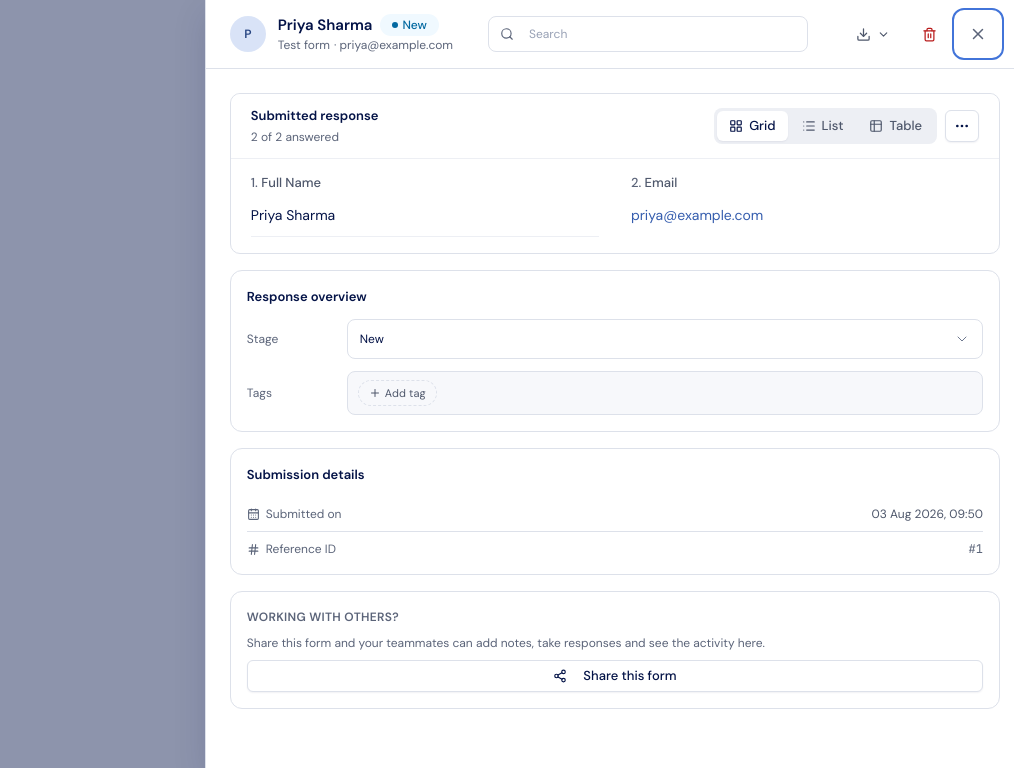
Test: ResponseDrawer layouts, full-screen page and keyboard › the options are behind a three-dot button that opens a popover
The image size is (1024, 768).
Check: the heading "Submitted response" is shown, box [251,106,378,126]
Click the button named "View options".
click(962, 126)  # box [945,110,979,142]
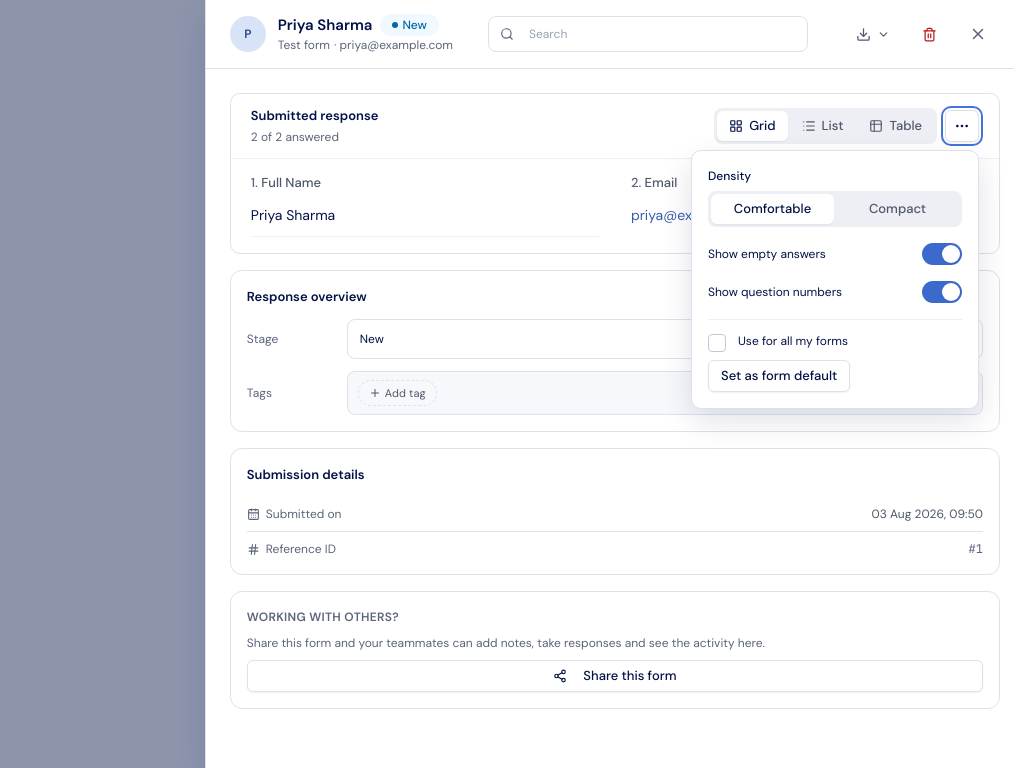
Check: the switch labelled "Show empty answers" is shown, box [922,243,962,265]
